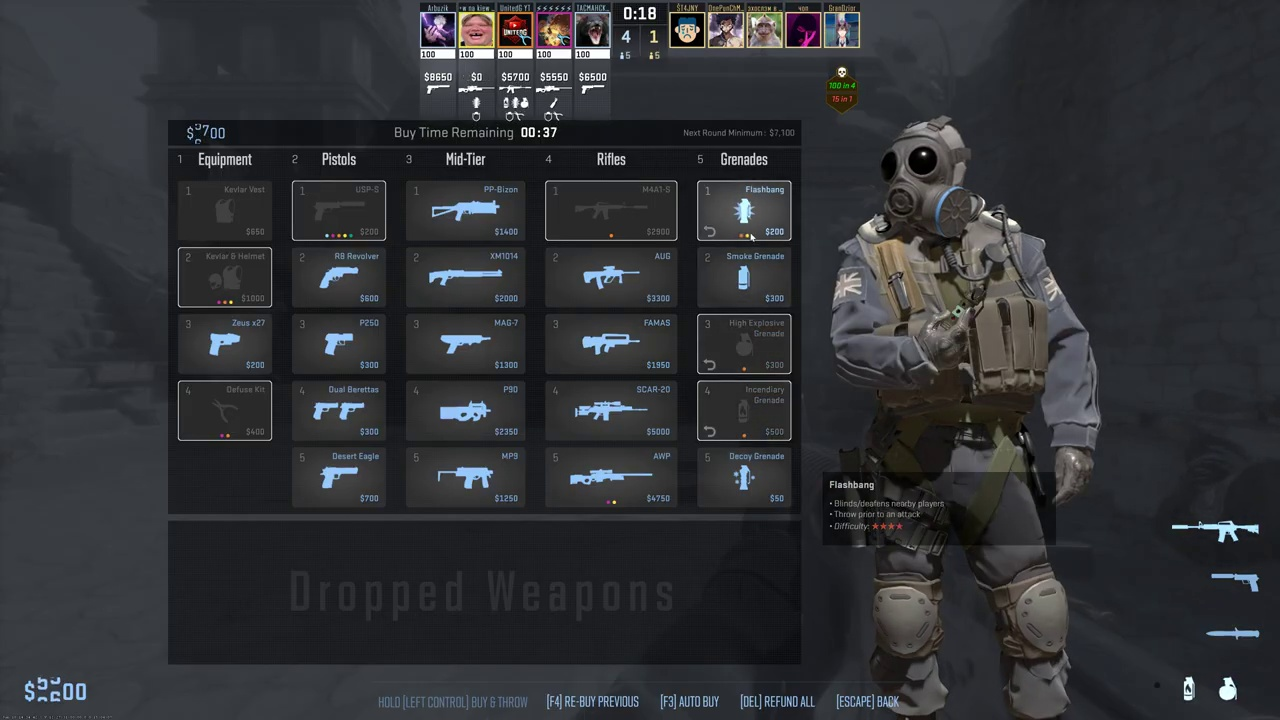CT: (856, 129, 1075, 710)
